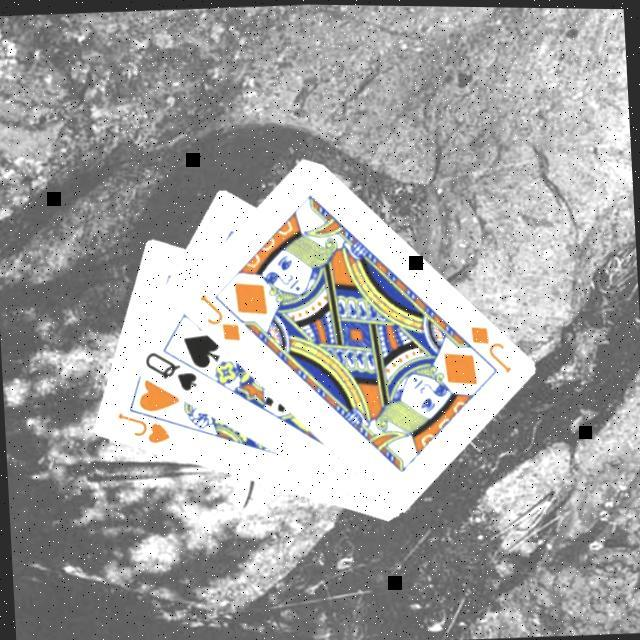JD: (468, 320, 518, 379), (196, 290, 245, 347)
JH: (115, 408, 176, 451)
QS: (143, 347, 203, 398)
